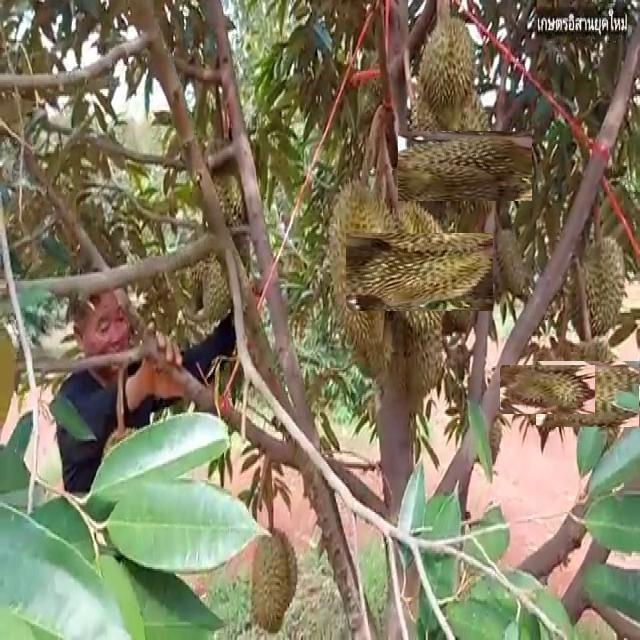durian: (324, 170, 402, 346), (363, 216, 475, 328), (414, 114, 517, 217), (409, 14, 487, 131), (549, 347, 640, 440), (565, 229, 632, 342), (250, 524, 302, 636), (512, 353, 584, 426)
